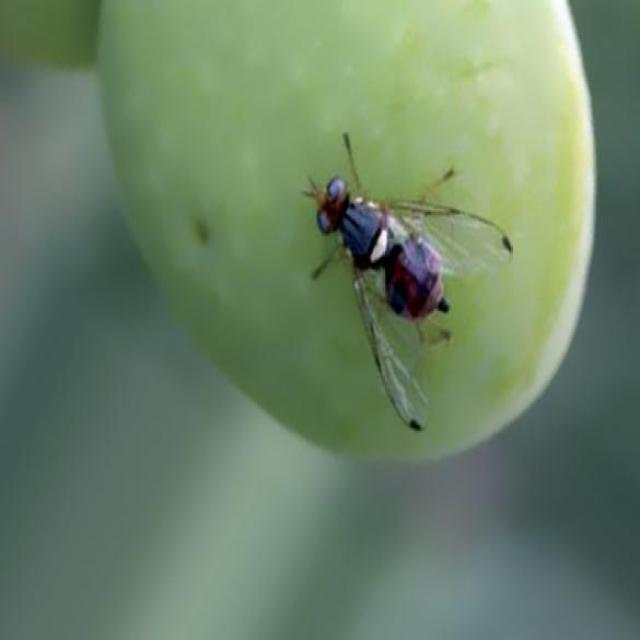Anthracnose: (98, 0, 594, 457)
